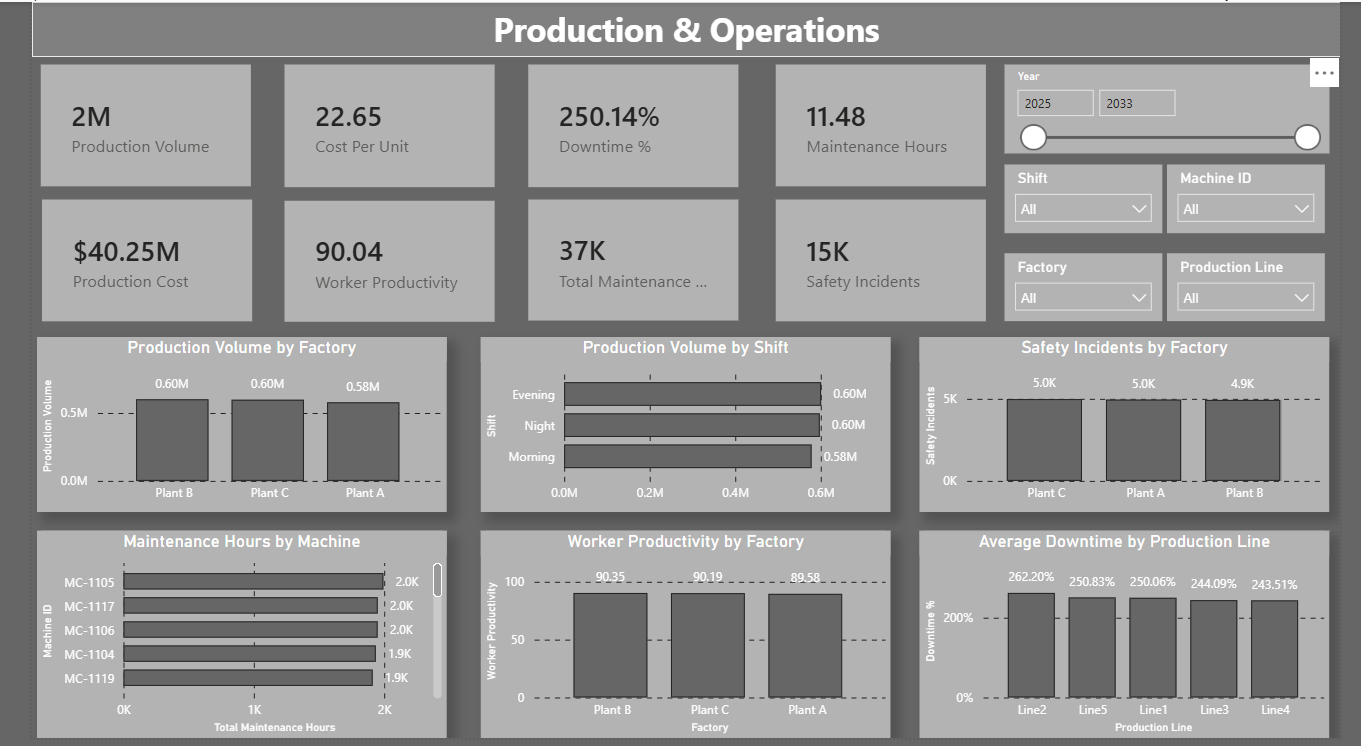

The page's visual inventory and layout, read from the dashboard file:
{"tool":"powerbi","page":{"name":"Production & Operations","canvas":[1280,720],"ordinal":2},"visuals":[{"type":"cardVisual","fields":{"Data":["Measure_Table.Total Production Volume"]},"box":[9,61.7,205.7,119.5],"z":0},{"type":"cardVisual","fields":{"Data":["Measure_Table.Total Production Cost"]},"box":[10.3,192.8,205.7,119.5],"z":1000},{"type":"cardVisual","fields":{"Data":["Measure_Table.Cost Per Unit"]},"box":[247,61.1,205.4,119.8],"z":2000},{"type":"cardVisual","fields":{"Data":["Measure_Table.Average Worker Productivity"]},"box":[247,194.4,205.4,118.6],"z":3000},{"type":"cardVisual","fields":{"Data":["Measure_Table.Average Downtime %"]},"box":[485.5,61.1,205.4,119.8],"z":4000},{"type":"cardVisual","fields":{"Data":["Measure_Table.Total Maintenance Hours"]},"box":[485.5,193.2,205.4,118.6],"z":5000},{"type":"cardVisual","fields":{"Data":["Measure_Table.Average Maintenance Hours"]},"box":[727.5,61.7,205.7,119.5],"z":6000},{"type":"cardVisual","fields":{"Data":["Measure_Table.Total Safety Incidents"]},"box":[727.5,192.8,205.7,119.5],"z":7000},{"type":"clusteredColumnChart","title":"Production Volume by Factory","fields":{"Category":["Dim_Factory.Factory"],"Y":["Measure_Table.Total Production Volume"]},"box":[5.1,327.8,401,171],"z":8000},{"type":"clusteredBarChart","title":"Production Volume by Shift","fields":{"Y":["Measure_Table.Total Production Volume"],"Category":["Dim_Shift.Shift"]},"box":[439.6,327.8,401,171],"z":9000},{"type":"clusteredColumnChart","title":"Worker Productivity by Factory","fields":{"Category":["Dim_Factory.Factory"],"Y":["Measure_Table.Average Worker Productivity"]},"box":[439.6,516.7,401,203.1],"z":10000},{"type":"clusteredBarChart","title":"Maintenance Hours by Machine","fields":{"Category":["Fact_manufacturing.Machine ID"],"Y":["Measure_Table.Total Maintenance Hours"]},"box":[5.1,516.7,401,203.1],"z":11000},{"type":"columnChart","title":"Average Downtime by Production Line","fields":{"Category":["Dim_Machine.Production Line"],"Y":["Measure_Table.Average Downtime %"]},"box":[867.6,516.7,401,203.1],"z":12000},{"type":"columnChart","title":"Safety Incidents by Factory","fields":{"Y":["Measure_Table.Total Safety Incidents"],"Category":["Dim_Factory.Factory"]},"box":[867.6,327.8,401,171],"z":13000},{"type":"slicer","fields":{"Values":["Dim_Date.Year"]},"box":[951.2,61.7,317.5,86.1],"z":14000},{"type":"slicer","fields":{"Values":["Dim_Factory.Factory"]},"box":[951.4,245.8,154.1,66],"z":15000},{"type":"slicer","fields":{"Values":["Dim_Machine.Production Line"]},"box":[1110.3,245.8,154.1,66],"z":16000},{"type":"slicer","fields":{"Values":["Dim_Machine.Machine ID"]},"box":[1110.6,159.4,154.2,66.8],"z":17000},{"type":"slicer","fields":{"Values":["Dim_Shift.Shift"]},"box":[951.2,159.4,154.2,66.8],"z":18000},{"type":"textbox","box":[0,0,1280.3,54],"z":19000}]}

Visuals, with their boxes in screenshot pixels (x1, y1, x2, y2), scaled from the page's 1280x720 canvas onto the 1361x746 screenshot:
cardVisual - Measure_Table.Total Production Volume: bbox=(10, 64, 228, 188)
cardVisual - Measure_Table.Total Production Cost: bbox=(11, 200, 230, 324)
cardVisual - Measure_Table.Cost Per Unit: bbox=(263, 63, 481, 187)
cardVisual - Measure_Table.Average Worker Productivity: bbox=(263, 201, 481, 324)
cardVisual - Measure_Table.Average Downtime %: bbox=(516, 63, 735, 187)
cardVisual - Measure_Table.Total Maintenance Hours: bbox=(516, 200, 735, 323)
cardVisual - Measure_Table.Average Maintenance Hours: bbox=(774, 64, 992, 188)
cardVisual - Measure_Table.Total Safety Incidents: bbox=(774, 200, 992, 324)
"Production Volume by Factory" clusteredColumnChart: bbox=(5, 340, 432, 517)
"Production Volume by Shift" clusteredBarChart: bbox=(467, 340, 894, 517)
"Worker Productivity by Factory" clusteredColumnChart: bbox=(467, 535, 894, 745)
"Maintenance Hours by Machine" clusteredBarChart: bbox=(5, 535, 432, 745)
"Average Downtime by Production Line" columnChart: bbox=(923, 535, 1349, 745)
"Safety Incidents by Factory" columnChart: bbox=(923, 340, 1349, 517)
slicer - Dim_Date.Year: bbox=(1011, 64, 1349, 153)
slicer - Dim_Factory.Factory: bbox=(1012, 255, 1175, 323)
slicer - Dim_Machine.Production Line: bbox=(1181, 255, 1344, 323)
slicer - Dim_Machine.Machine ID: bbox=(1181, 165, 1345, 234)
slicer - Dim_Shift.Shift: bbox=(1011, 165, 1175, 234)
textbox: bbox=(0, 0, 1360, 56)
